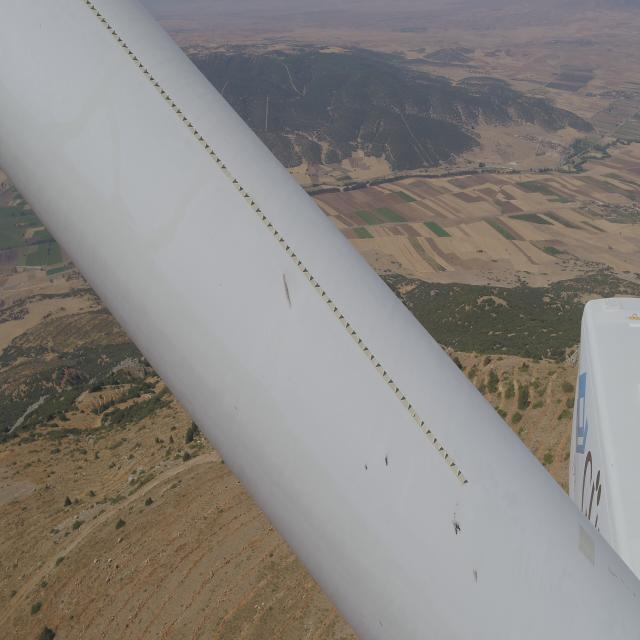Crack: (278, 268, 297, 310)
